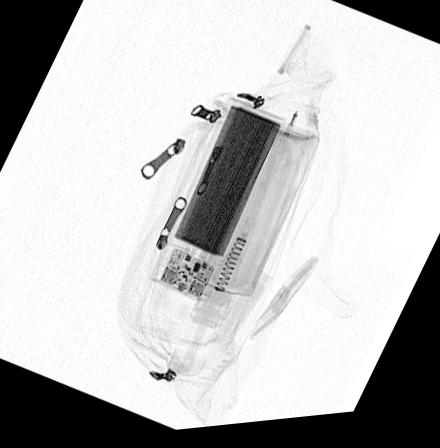Powerbank: (147, 100, 288, 307)
